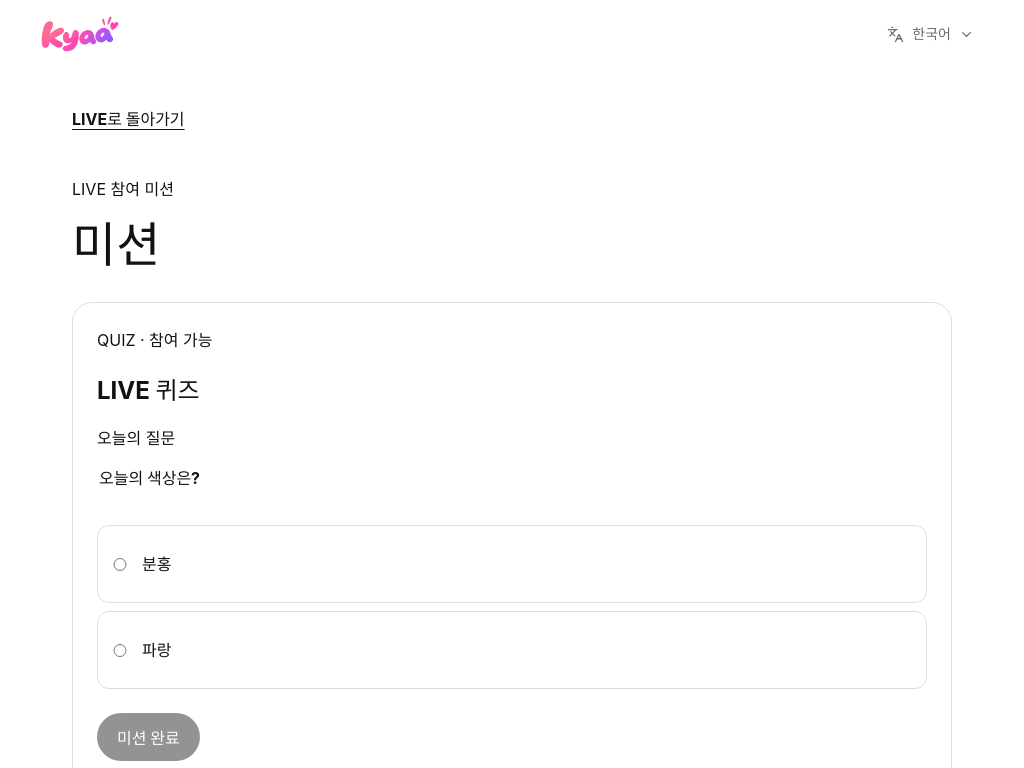
guards token and POST waits, locks answers and confirms completion without another GET
The width and height of the screenshot is (1024, 768).
Click the radio button labelled "분홍".
click(120, 564)  # box x1=110 y1=558 x2=130 y2=571
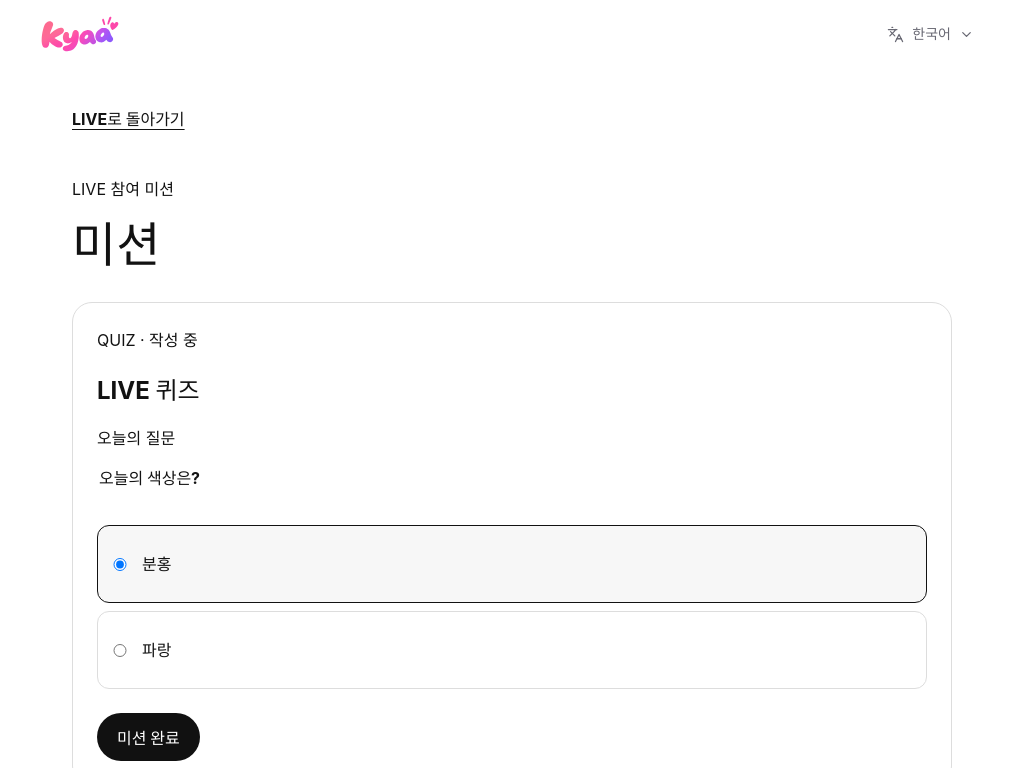
Click the button "미션 완료".
click(148, 737)  # box x1=97 y1=713 x2=200 y2=761
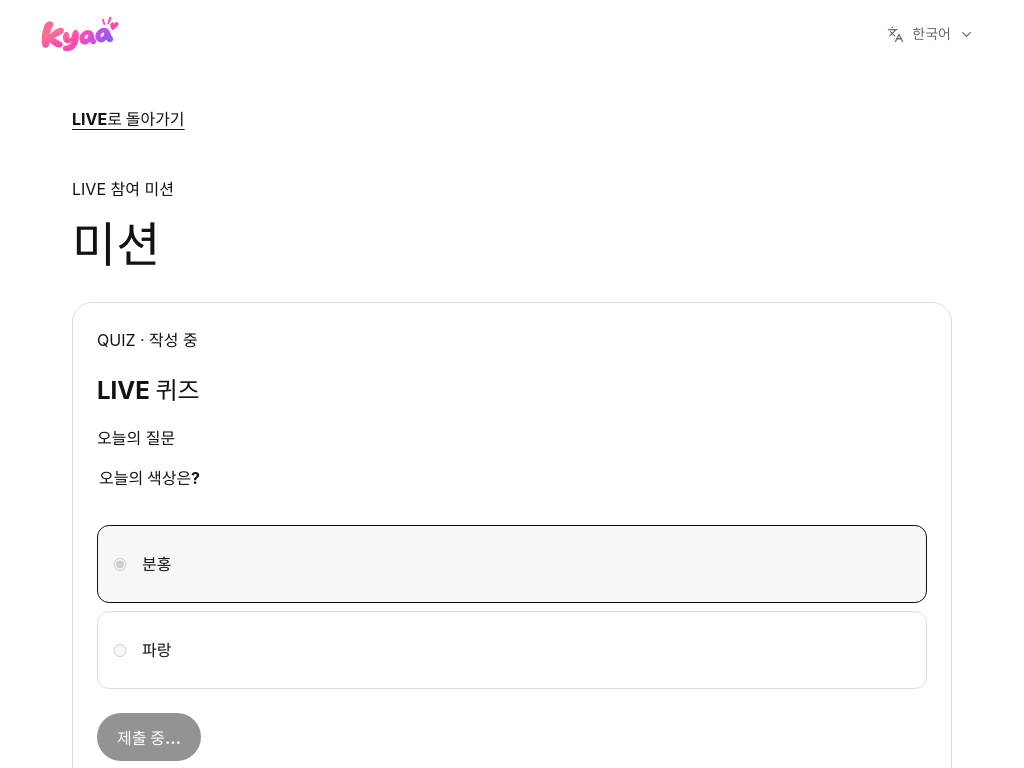
Click the button named "미션 완료".
click(149, 737)  # box x1=97 y1=713 x2=201 y2=761
(page scrolled)
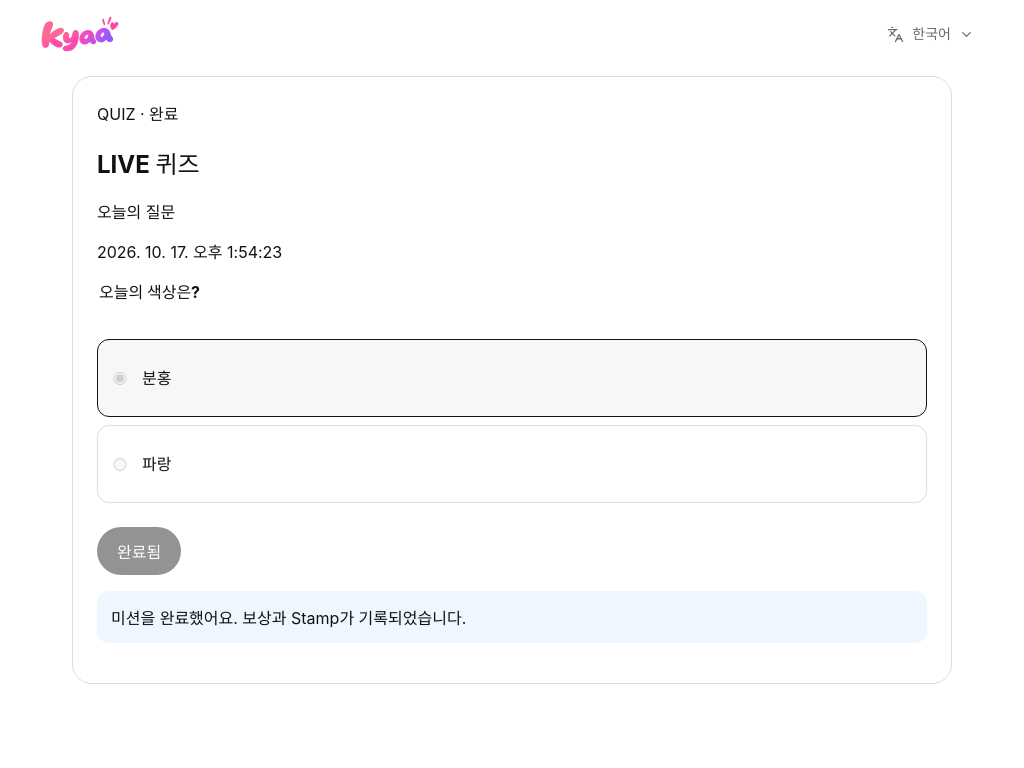
Now the button named "제출 중…" is disabled, box x1=97 y1=527 x2=181 y2=575
Now the button "완료됨" is disabled, box x1=97 y1=527 x2=181 y2=575
Now the message shows "미션을 완료했어요", box x1=111 y1=608 x2=466 y2=628
